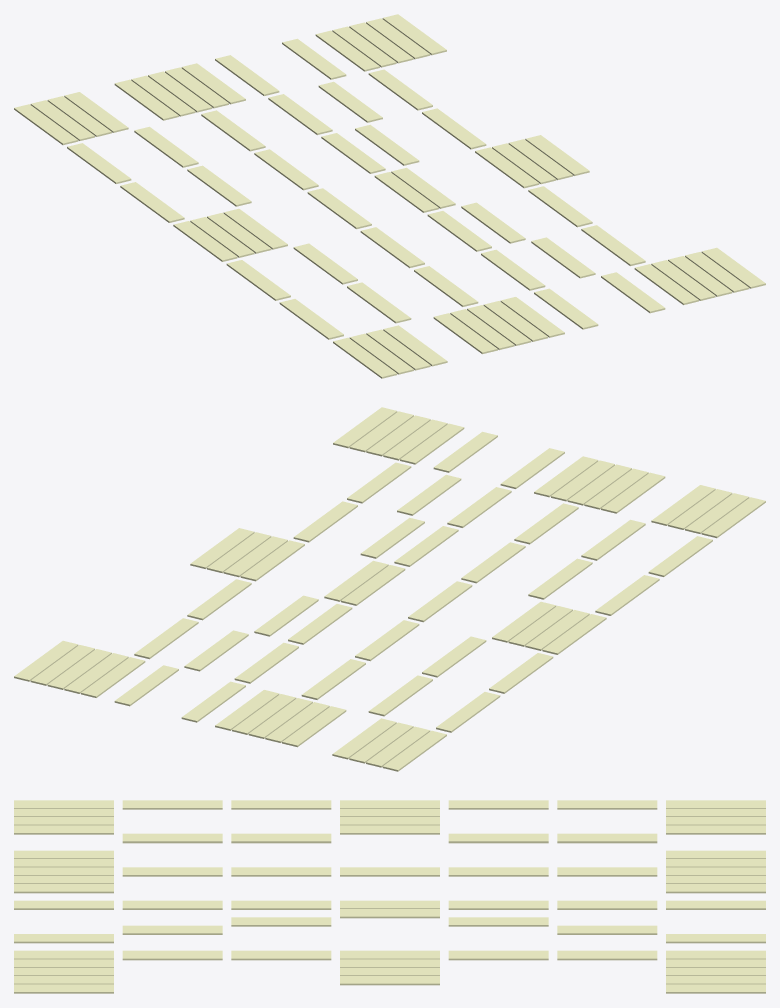
The model's file is marking_bike_text_white.glb.
3 renders of one model, top to bottom at view 1: azimuth 30°, elevation 25°; view 2: azimuth 150°, elevation 25°; view 3: azimuth 270°, elevation 25°, orthographic. The views are drawn at different scales.
Visible parts, largest first — view 1: bike_46, bike_07, bike_28, bike_35, bike_40, bike_60, bike_00, bike_05, bike_14, bike_27, bike_47, bike_61 (+55 smaller); view 2: bike_38, bike_13, bike_26, bike_44, bike_47, bike_55, bike_04, bike_15, bike_16, bike_27, bike_35, bike_54 (+55 smaller); view 3: bike_05, bike_07, bike_13, bike_15, bike_54, bike_55, bike_60, bike_61, bike_04, bike_06, bike_12, bike_14 (+55 smaller).
Boxes of the visible parts, x1,y1,x2,y2 form: bike_46: (318,81,382,122); bike_07: (293,243,357,284); bike_28: (254,149,318,190); bike_35: (534,288,598,329); bike_40: (461,202,525,243); bike_60: (422,108,486,149); bike_00: (333,337,397,378); bike_05: (347,282,411,323); bike_14: (67,143,131,183); bike_27: (307,188,371,229); bike_47: (215,55,279,95); bike_61: (368,69,432,110); bike_38: (397,474,461,515); bike_13: (422,636,486,677); bike_26: (461,542,525,583); bike_44: (254,595,318,636); bike_47: (181,681,245,722); bike_55: (293,501,357,542); bike_04: (648,536,712,576); bike_15: (368,675,432,716); bike_16: (382,730,446,771); bike_27: (408,581,472,622); bike_35: (500,448,564,488); bike_54: (347,462,411,503); bike_05: (122,833,222,843); bike_07: (231,833,331,843); bike_13: (448,833,548,843); bike_15: (557,833,657,843); bike_54: (122,950,222,960); bike_55: (231,950,331,960); bike_60: (448,950,548,960); bike_61: (557,950,657,960); bike_04: (122,800,222,809); bike_06: (231,800,331,809); bike_12: (448,800,548,809); bike_14: (557,800,657,809).
Size of the model in its own units: 1.22 by 0.005 by 2.02.
